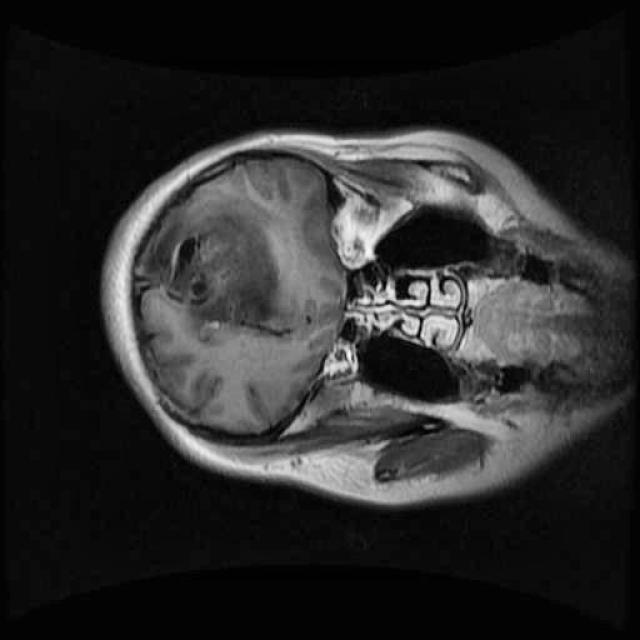Tumor: (122, 182, 309, 360)
